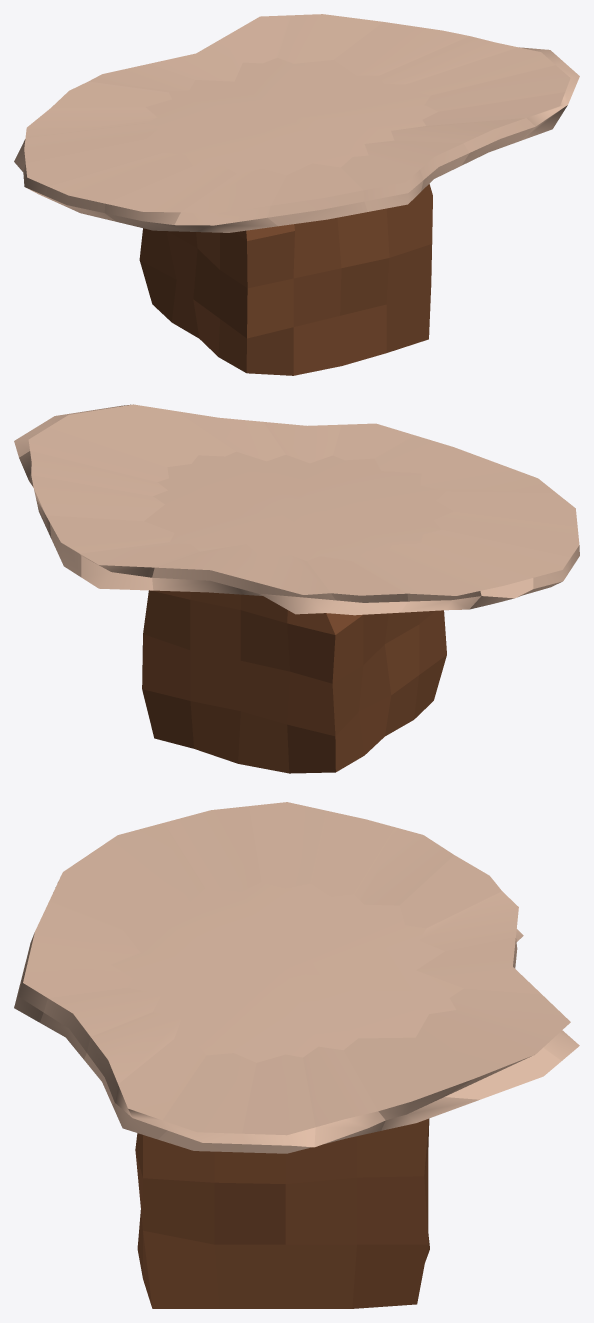
File: prop_processing.fbx
The picture shows the model from 3 angles, top to bottom: view 1: azimuth 30°, elevation 25°; view 2: azimuth 150°, elevation 25°; view 3: azimuth 270°, elevation 25°; orthographic projection. The views are drawn at different scales.
Parts seen in each view (by area): view 1: processing_top_LOD0, processing_base_LOD0; view 2: processing_top_LOD0, processing_base_LOD0; view 3: processing_top_LOD0, processing_base_LOD0.
Boxes of the visible parts, box(x1,y1,x2,y2) form: processing_top_LOD0: box(14, 14, 579, 232); processing_base_LOD0: box(139, 184, 432, 375); processing_top_LOD0: box(14, 404, 579, 615); processing_base_LOD0: box(142, 590, 446, 773); processing_top_LOD0: box(14, 802, 579, 1153); processing_base_LOD0: box(135, 1118, 429, 1308).
Size of what is drawn, in the model's own units: 283 by 109 by 198.
